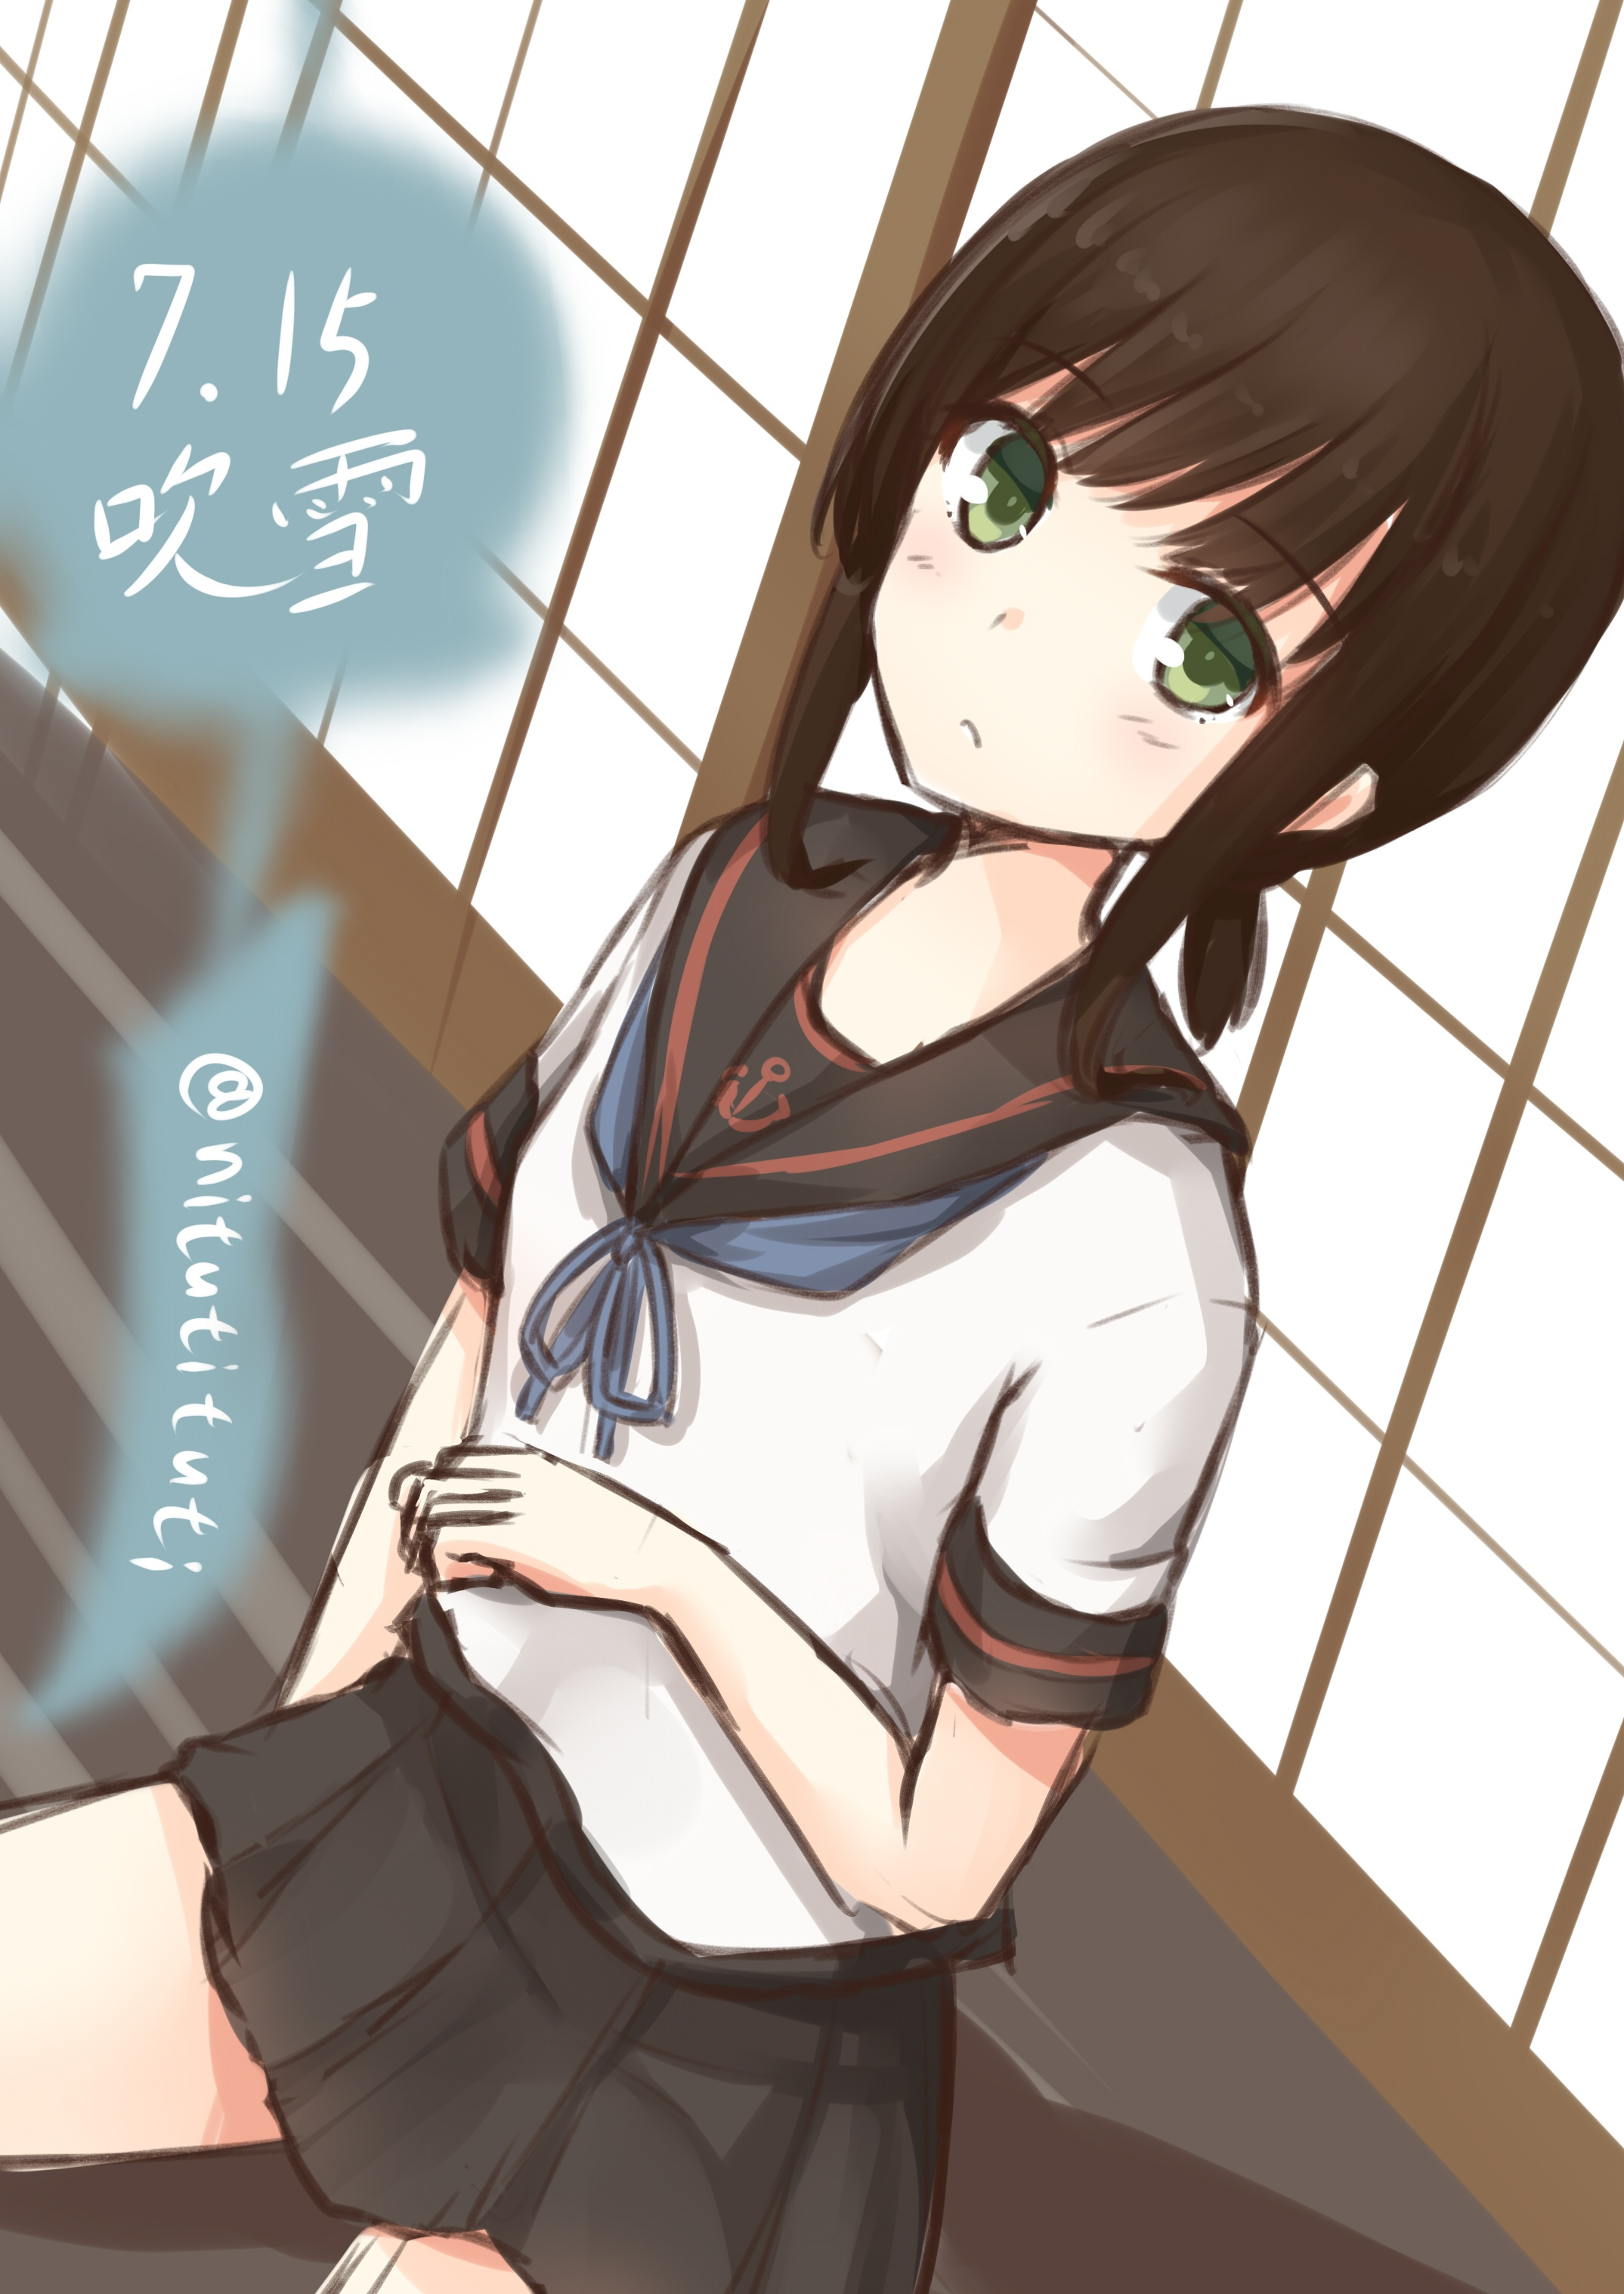纸片人正脸: (824, 114, 1607, 867)
